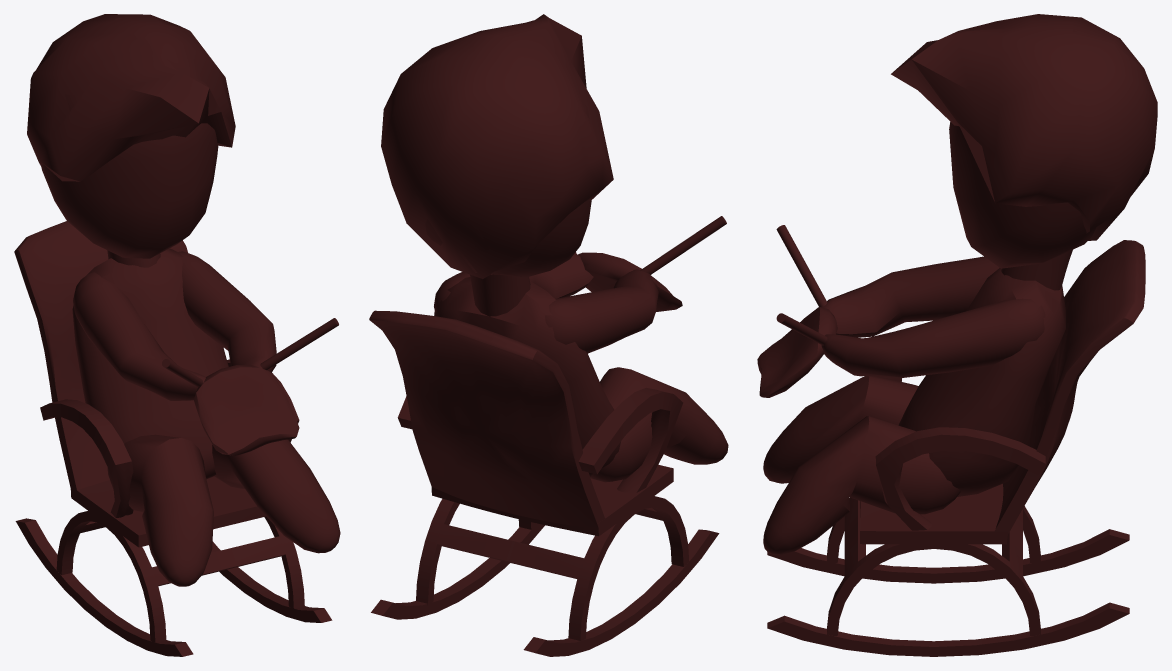
Rendered from Knit.fbx.
The picture shows the model from 3 angles, left to right: view 1: azimuth 30°, elevation 25°; view 2: azimuth 150°, elevation 25°; view 3: azimuth 270°, elevation 25°; orthographic projection. The views are drawn at different scales.
Parts seen in each view (by area): view 1: Knit; view 2: Knit; view 3: Knit.
Part boxes in pixels (left/top/right/bottom): Knit: left=14, top=14, right=340, bottom=656; Knit: left=369, top=14, right=728, bottom=656; Knit: left=757, top=14, right=1157, bottom=656.
Bounding box in the file's own units: 1.08 × 3.02 × 1.84.
